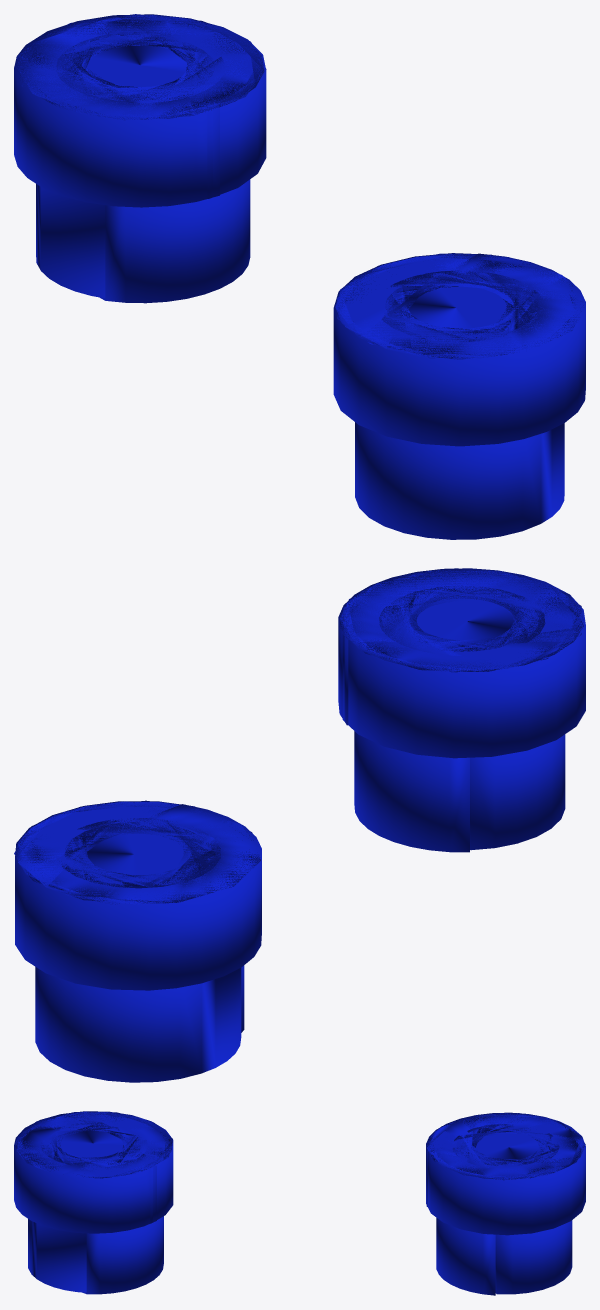
File: tuyeau_element_000063.obj
3 views of the same model, one above another, from view 1: azimuth 30°, elevation 25°; view 2: azimuth 150°, elevation 25°; view 3: azimuth 270°, elevation 25° (orthographic). The views are drawn at different scales.
Parts seen in each view (by area): view 1: tuyeau1_Cube.014, tuyeau2_Cube.017; view 2: tuyeau2_Cube.017, tuyeau1_Cube.014; view 3: tuyeau1_Cube.014, tuyeau2_Cube.017.
Boxes of the visible parts, x1,y1,x2,y2 form: tuyeau1_Cube.014: (14, 14, 266, 303); tuyeau2_Cube.017: (333, 253, 585, 539); tuyeau2_Cube.017: (338, 568, 585, 852); tuyeau1_Cube.014: (14, 800, 261, 1082); tuyeau1_Cube.014: (426, 1112, 585, 1295); tuyeau2_Cube.017: (14, 1111, 173, 1294).
Bounding box in the file's own units: 3598 × 2917 × 12597.
